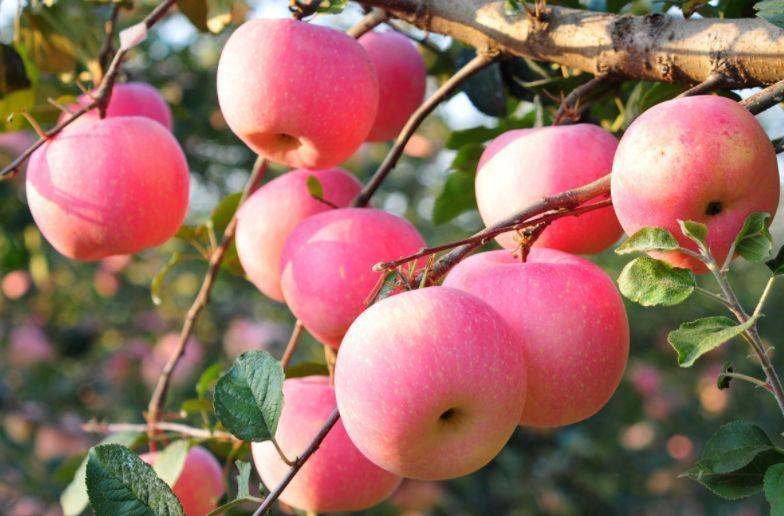apple: (331, 285, 522, 480), (439, 245, 630, 428), (608, 94, 781, 271), (214, 15, 377, 173), (24, 117, 188, 256), (280, 205, 426, 346), (251, 380, 402, 511), (473, 124, 622, 243)
